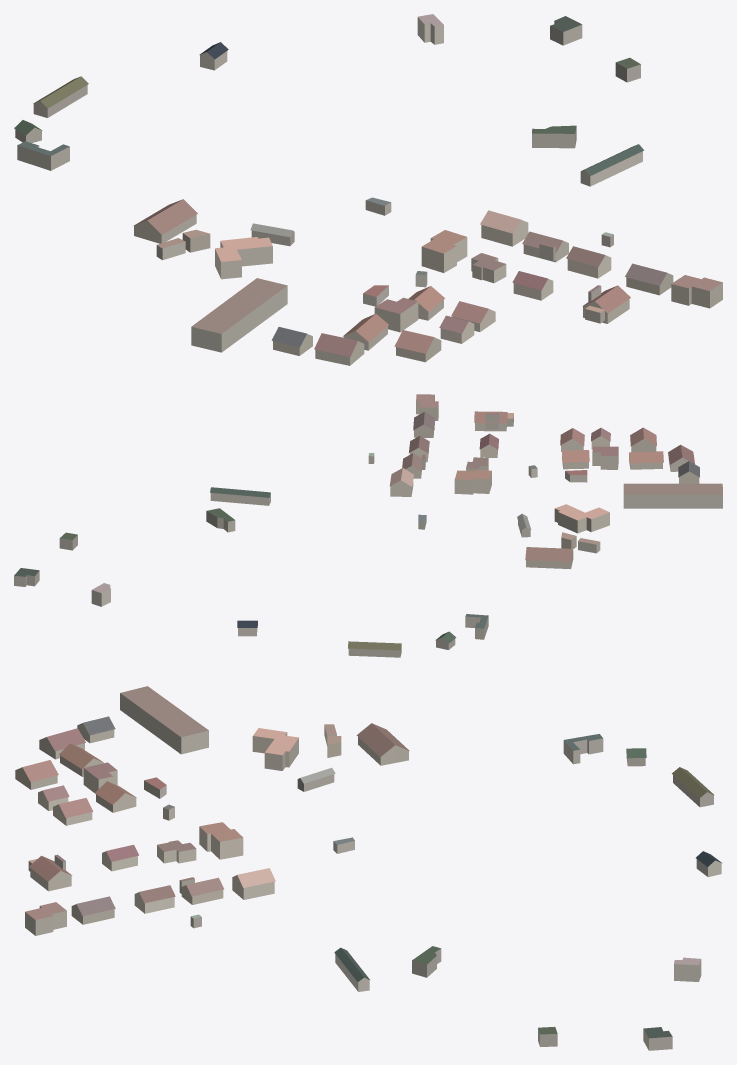
3 views of the same model, one above another, from view 1: azimuth 30°, elevation 25°; view 2: azimuth 150°, elevation 25°; view 3: azimuth 270°, elevation 25° (orthographic). The views are drawn at different scales.
Parts seen in each view (by area): view 1: tuile; view 2: tuile; view 3: tuile.
Part boxes in pixels (x1,y1,x2,y2): tuile: (14,14,722,365); tuile: (14,394,722,657); tuile: (15,686,722,1050).
Bounding box in the file's own units: 254 × 26.92 × 256.
